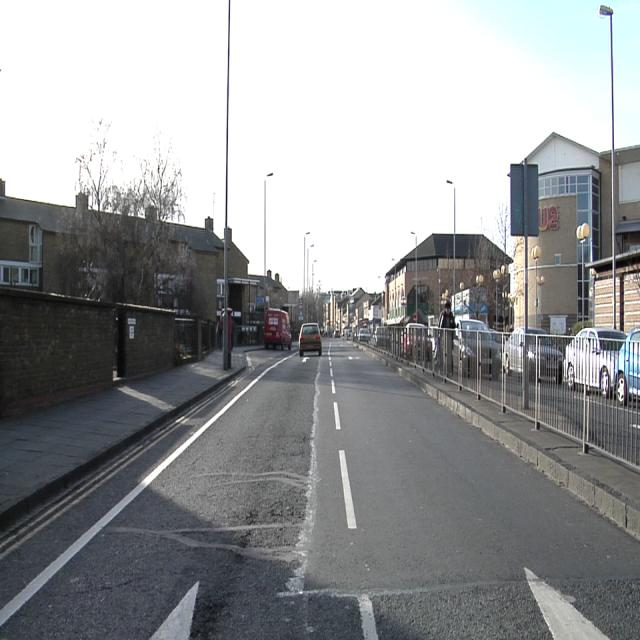Building: (1, 181, 223, 412), (515, 135, 636, 332), (385, 233, 512, 327), (615, 145, 639, 328), (324, 288, 382, 337), (229, 242, 250, 321)
Car: (564, 329, 624, 395), (458, 319, 500, 380), (525, 331, 563, 382), (619, 327, 639, 403), (402, 323, 435, 367), (503, 332, 524, 371), (299, 324, 322, 356), (359, 329, 370, 342)
Road: (0, 340, 639, 627)
Tree: (75, 120, 186, 220)
Truck_Bus: (265, 310, 291, 350)
